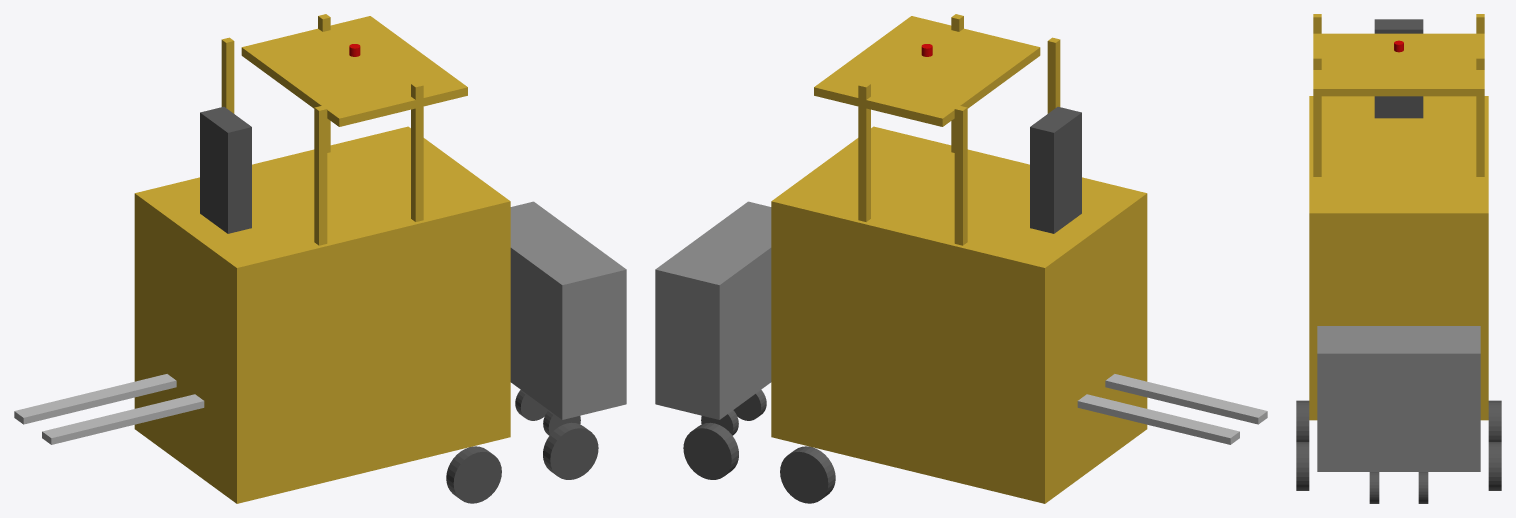
Rendered from forklift-reach-2t.glb.
The picture shows the model from 3 angles, left to right: view 1: azimuth 30°, elevation 25°; view 2: azimuth 150°, elevation 25°; view 3: azimuth 270°, elevation 25°; orthographic projection. The views are drawn at different scales.
Parts seen in each view (by area): view 1: body, counterweight, roof, mast_outer, fork_0, fork_1, wheel_left_0, wheel_left_1, pillar_0, pillar_2, pillar_1; view 2: body, counterweight, roof, mast_outer, fork_1, fork_0, wheel_right_0, wheel_right_1, pillar_1, pillar_3, pillar_0; view 3: body, counterweight, roof, mast_outer, pillar_2, pillar_3, wheel_left_1, wheel_right_1, wheel_left_0, wheel_right_0, front_wheel_0, front_wheel_1.
Boxes of the visible parts, x1,y1,x2,y2 form: body: (134,126,510,503); counterweight: (510,201,626,419); roof: (241,16,467,126); mast_outer: (200,106,251,233); fork_0: (42,394,204,444); fork_1: (14,374,176,424); wheel_left_0: (446,446,501,503); wheel_left_1: (543,422,598,479); pillar_0: (314,105,327,245); pillar_2: (411,82,423,221); pillar_1: (221,37,234,113); body: (771,126,1147,503); counterweight: (655,201,771,419); roof: (814,16,1040,126); mast_outer: (1030,106,1081,233); fork_1: (1077,394,1239,444); fork_0: (1105,374,1267,424); wheel_right_0: (780,446,835,503); wheel_right_1: (683,422,738,479); pillar_1: (954,105,967,245); pillar_3: (858,82,870,221); pillar_0: (1047,37,1060,113); body: (1309,96,1488,420); counterweight: (1317,326,1480,471); roof: (1313,33,1484,96); mast_outer: (1374,19,1423,118); pillar_2: (1313,55,1321,176); pillar_3: (1476,55,1484,176); wheel_left_1: (1296,442,1309,490); wheel_right_1: (1488,442,1501,490); wheel_left_0: (1296,400,1309,441); wheel_right_0: (1488,400,1501,441); front_wheel_0: (1369,472,1379,503); front_wheel_1: (1418,472,1428,503).
Size of the model in its own units: 3400 by 2550 by 1260.
